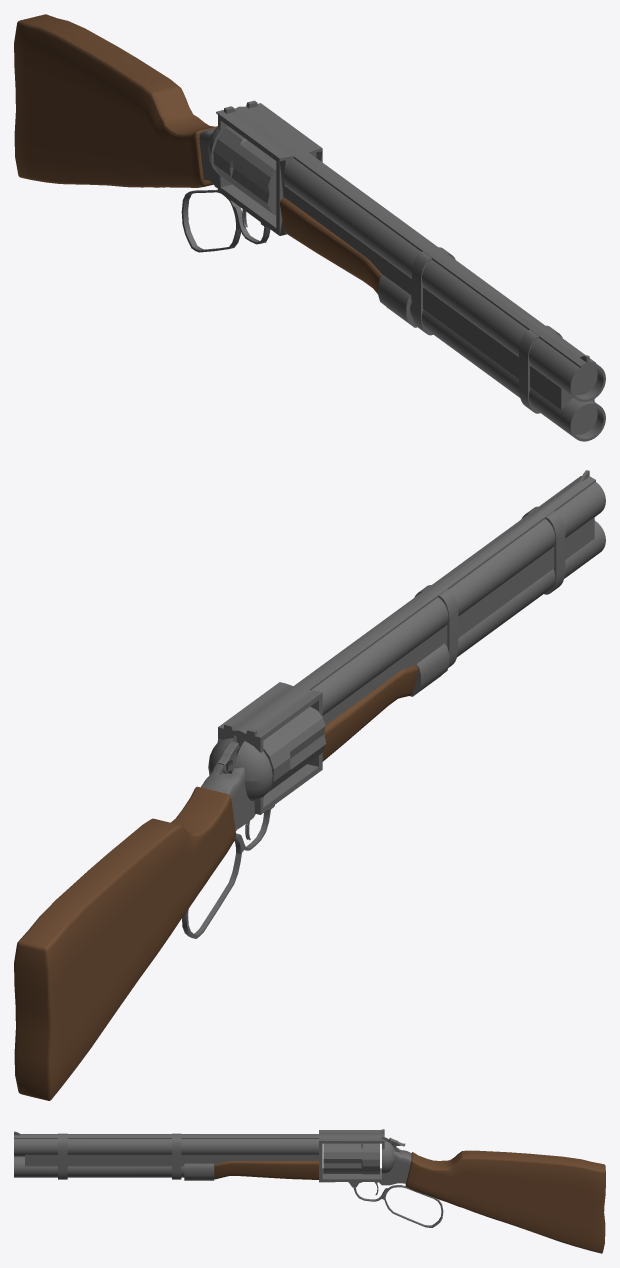
File: Shotgun5.glb
The picture shows the model from 3 angles, top to bottom: view 1: azimuth 30°, elevation 25°; view 2: azimuth 150°, elevation 25°; view 3: azimuth 270°, elevation 25°; orthographic projection. The views are drawn at different scales.
Parts seen in each view (by area): view 1: Stock, Rifle body, Barrel top, Barrel bot, Revolver, Cube, Lever, Cube.001; view 2: Stock, Rifle body, Barrel top, Revolver, Cube, Barrel bot, Lever, Cube.001; view 3: Stock, Rifle body, Barrel top, Barrel bot, Cube, Revolver, Cube.001, Lever.
Boxes of the visible parts, box(x1,y1,x2,y2) form: Stock: box(14, 14, 217, 187); Rifle body: box(199, 100, 595, 413); Barrel top: box(283, 158, 605, 401); Barrel bot: box(410, 301, 605, 441); Revolver: box(213, 126, 276, 215); Cube: box(279, 197, 382, 294); Lever: box(181, 189, 270, 252); Cube.001: box(378, 275, 416, 327); Stock: box(14, 786, 235, 1100); Rifle body: box(201, 470, 595, 831); Barrel top: box(311, 482, 605, 715); Revolver: box(236, 706, 326, 793); Cube: box(322, 665, 418, 761); Barrel bot: box(457, 520, 605, 656); Lever: box(182, 809, 270, 938); Cube.001: box(410, 643, 449, 696); Stock: box(405, 1150, 605, 1253); Rifle body: box(14, 1129, 411, 1187); Barrel top: box(14, 1139, 318, 1156); Barrel bot: box(14, 1156, 184, 1177); Cube: box(214, 1161, 318, 1179); Revolver: box(323, 1143, 379, 1174); Cube.001: box(184, 1163, 214, 1180); Lever: box(353, 1185, 443, 1227).
Size of the model in its own units: 0.1 by 0.3457 by 1.57.
